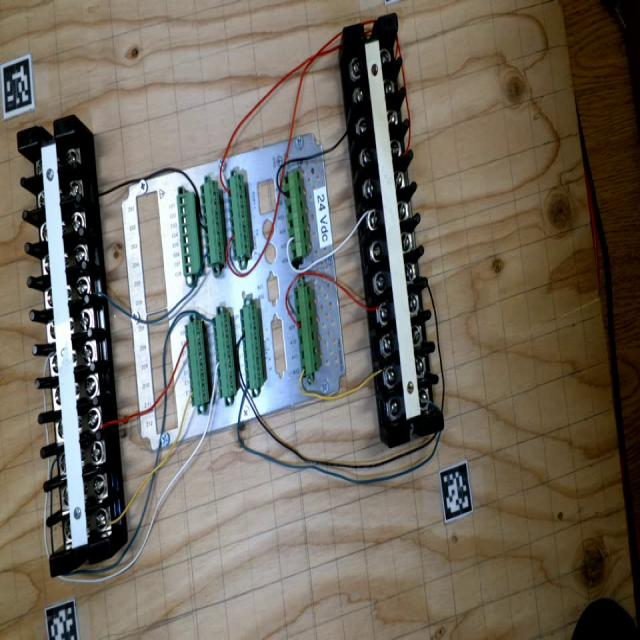Flathead_Block: (342, 13, 445, 447)
Phillips_Block: (16, 115, 112, 578)
Terminal_1: (282, 170, 310, 260), (294, 285, 319, 375)
Terminal_2: (212, 312, 237, 399), (184, 320, 209, 406), (200, 180, 225, 266), (226, 173, 251, 258), (240, 304, 264, 389)
